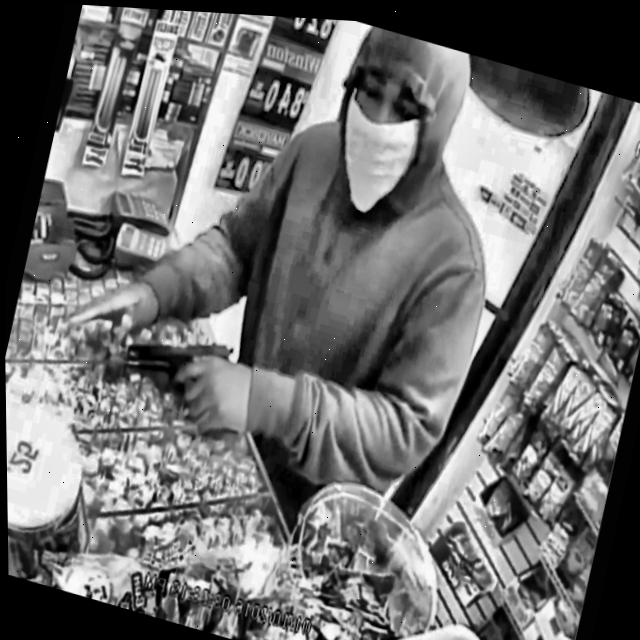pistol: (119, 295, 241, 406)
robbery: (52, 26, 495, 536)
